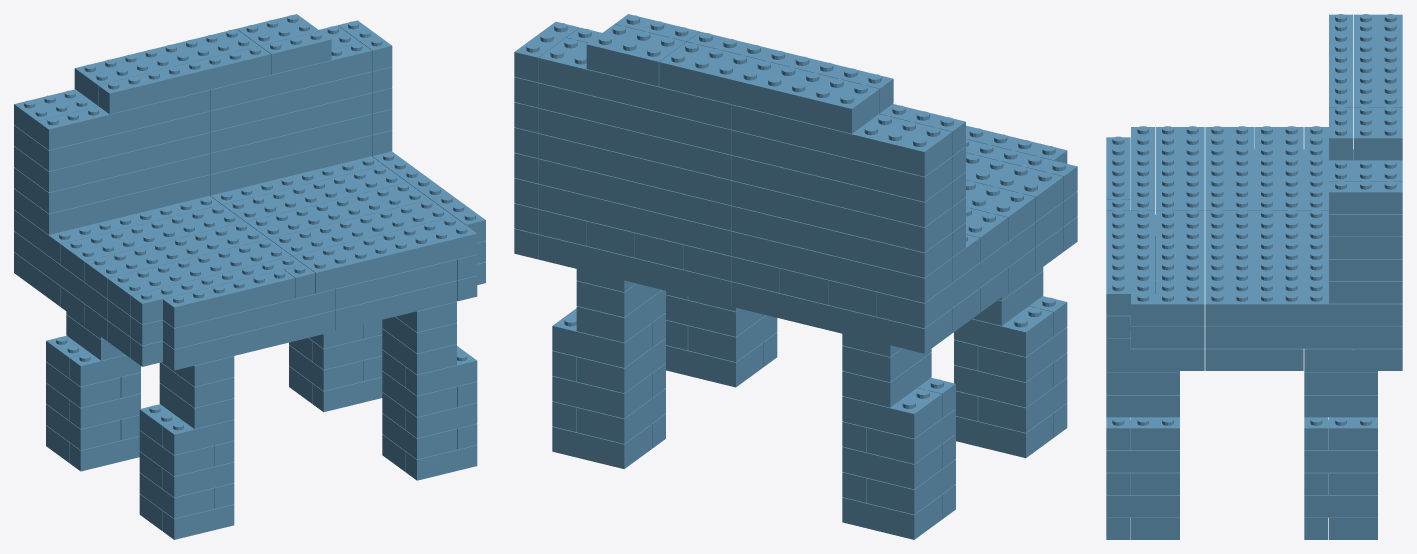
File: 037_bench_L2.glb
The picture shows the model from 3 angles, left to right: view 1: azimuth 30°, elevation 25°; view 2: azimuth 150°, elevation 25°; view 3: azimuth 270°, elevation 25°; orthographic projection. The views are drawn at different scales.
Bounding box in the file's own units: 16.98 × 17.13 × 11.98.
